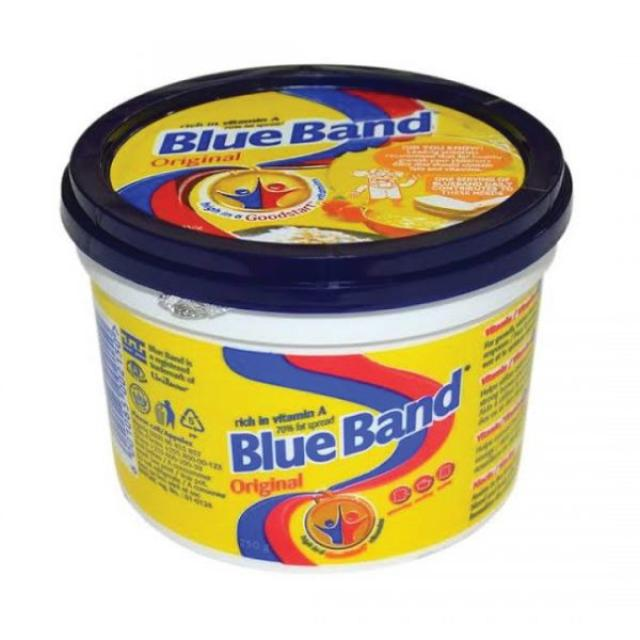butter: (59, 63, 574, 570)
